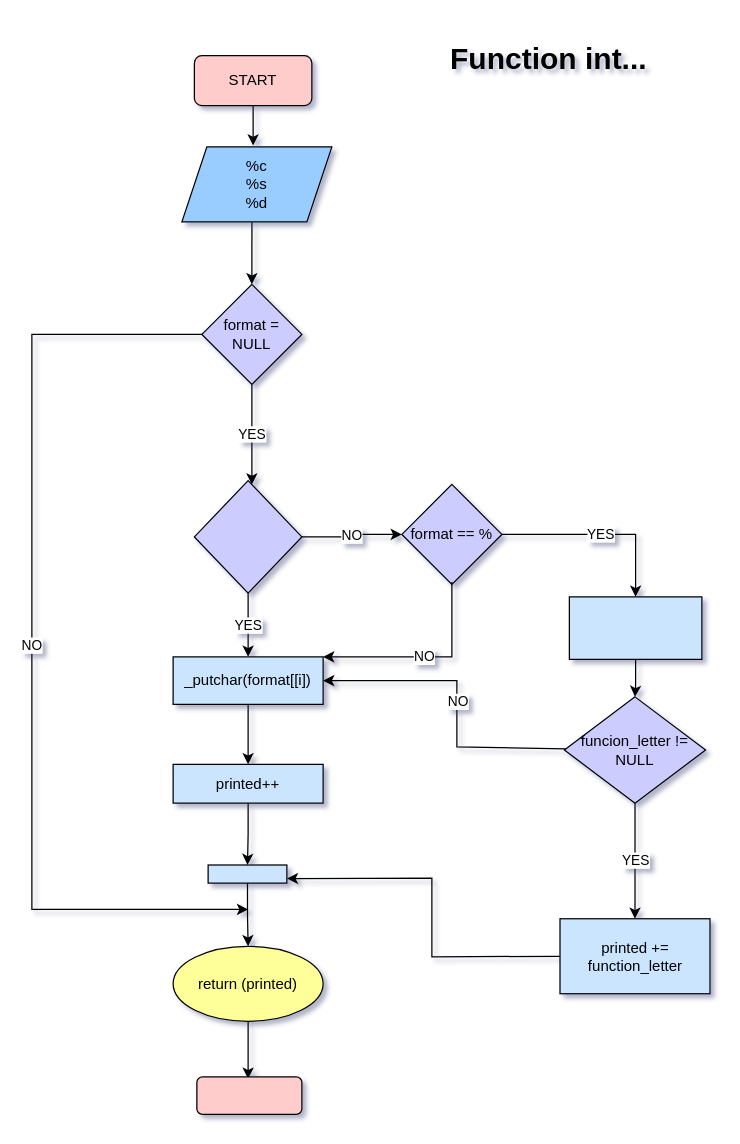
Some shapes in this 740 by 1144 pixel diagram are drawn without their labels. The shapes that lost their labels are listed below. From the top down, each one's box as (x1, y1, x2, y2) in pixels, then its label:
(193, 479, 302, 593): format [i] = NULL
(568, 596, 702, 659): i++.... function_letter select(format[i])
(207, 864, 287, 883): i++
(196, 1076, 302, 1114): END
